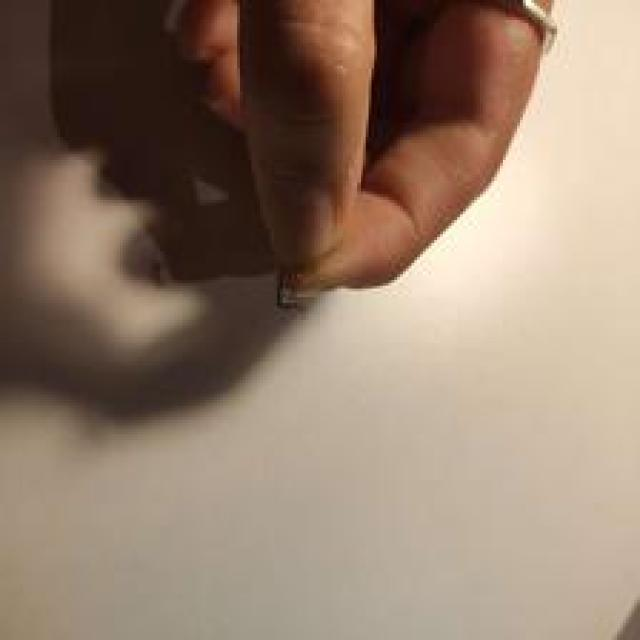Aedes albopictus: (1, 0, 562, 426)
